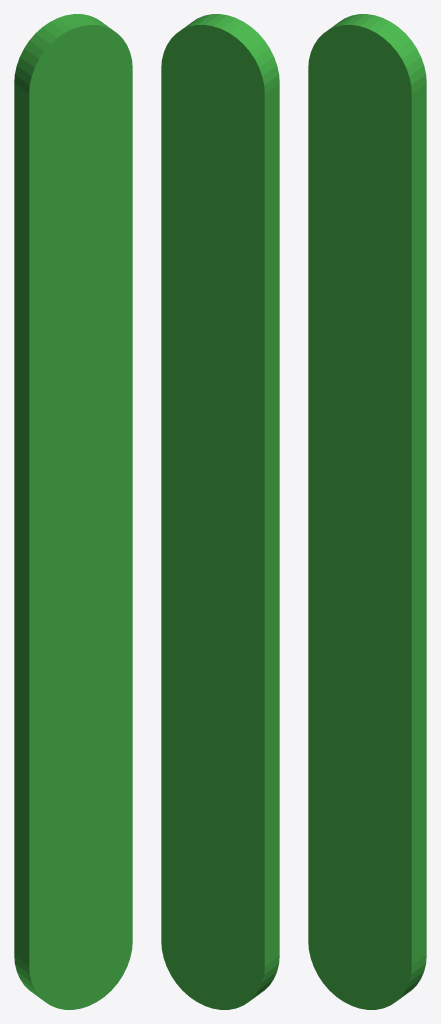
Rendered from tinker.obj.
3 renders of one model, left to right at view 1: azimuth 30°, elevation 25°; view 2: azimuth 150°, elevation 25°; view 3: azimuth 330°, elevation 25°, orthographic.
Parts seen in each view (by area): view 1: obj_0; view 2: obj_0; view 3: obj_0.
Part boxes in pixels (x1,y1,x2,y2): obj_0: (14,14,132,1009); obj_0: (161,14,279,1009); obj_0: (308,14,426,1009).
Size of the model in its own units: 8 by 72.49 by 2.
